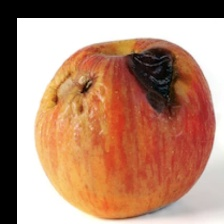apple: (34, 7, 208, 206)
